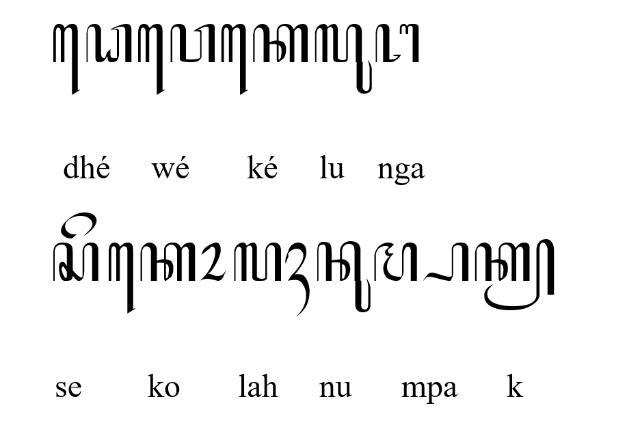-k: (474, 239, 556, 312)
_h1: (285, 242, 311, 316)
_p: (423, 241, 469, 283)
dh: (86, 24, 132, 62)
e: (61, 211, 98, 239)
e1: (136, 23, 166, 95), (52, 24, 80, 96), (221, 23, 249, 95), (108, 242, 136, 314)
k: (140, 242, 196, 284), (253, 23, 309, 64)
l: (232, 242, 282, 282)
lu: (314, 24, 372, 94)
m: (374, 240, 418, 282)
nga: (376, 23, 420, 65)
nu: (317, 242, 371, 312)
o: (199, 242, 227, 282)
s: (53, 243, 99, 282)
w: (170, 21, 214, 62)
